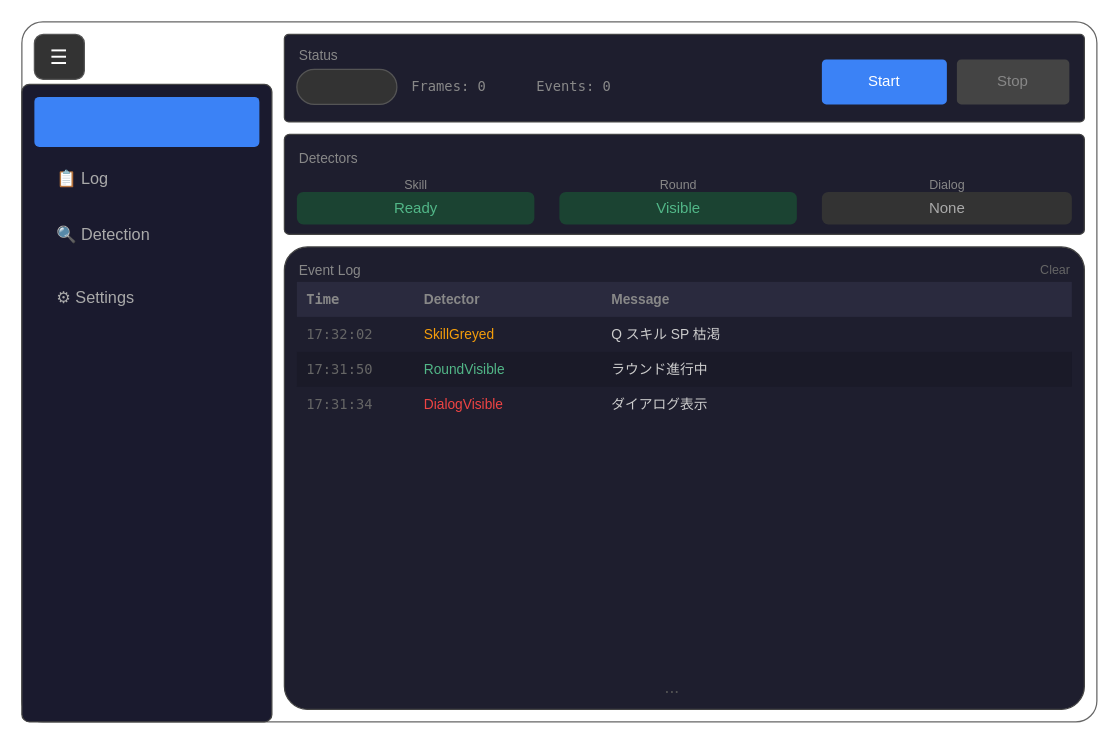
The diagram is 1119 pixels wide and 744 high, and some of its shapes have lost their labels. Here are the shapes that lost their labels. From the top down, the centre of each, then its label:
At (346,86): "● Idle".
At (146,121): "🏠 Main".
